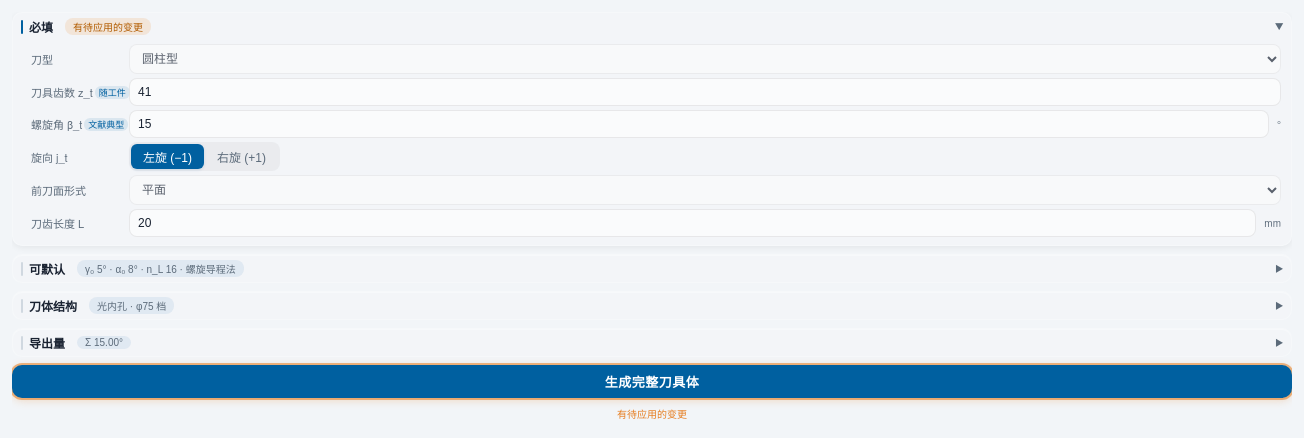
ToolSolidPanel — 手动生成 + 图层替换（Q2-a） › 生成后改动任一刀具字段 → dirty 高亮回来（快照对比，不自动重生成）
The width and height of the screenshot is (1304, 438).
Click the button with test id "generate-tool-ring" at (652, 382), box [12,365,1292,398]
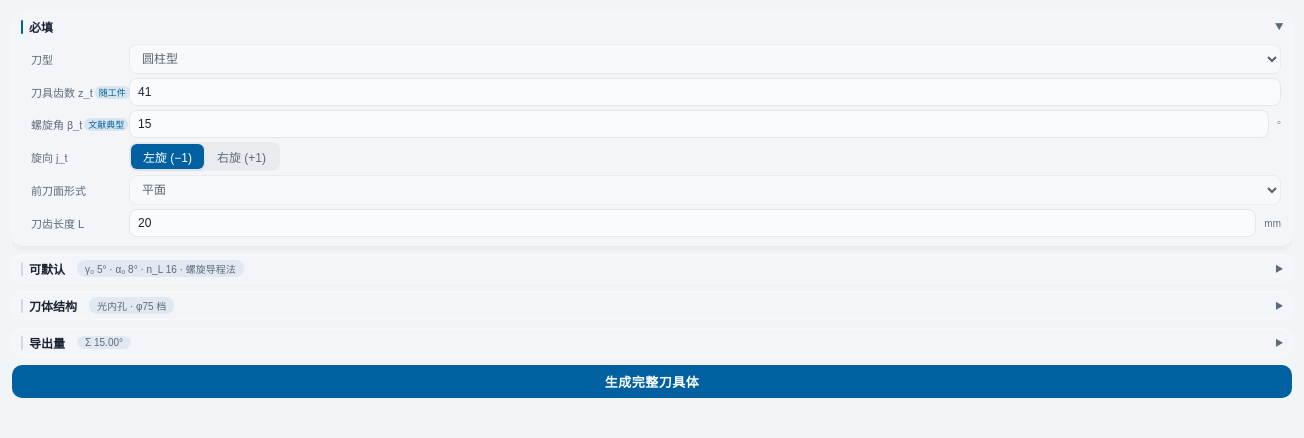
Replace the text in the number field next to "随工件" with "33" at (705, 92), box [129,78,1281,106]
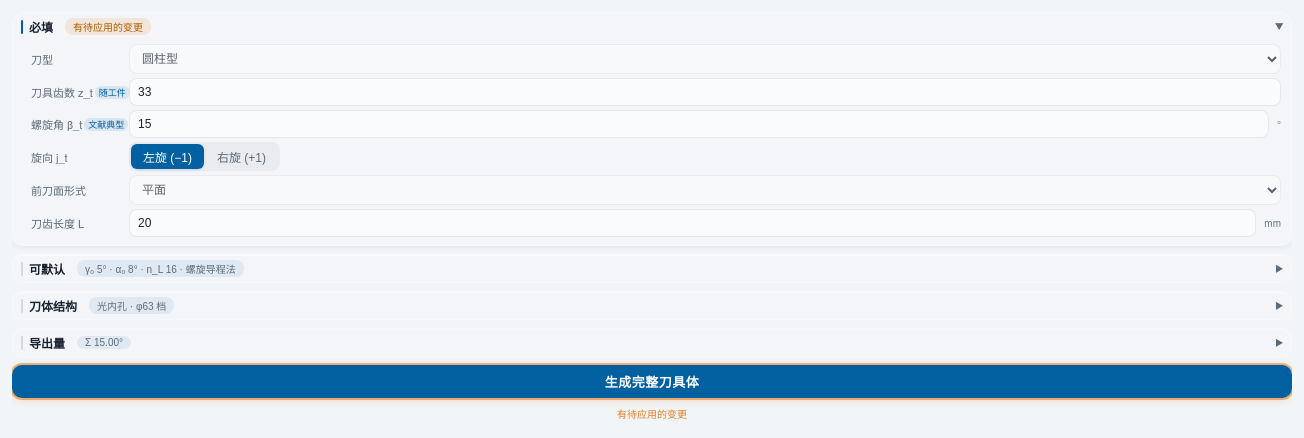
expect the text with test id "pending-hint" reads "有待应用的变更": met, box [617,407,687,421]
